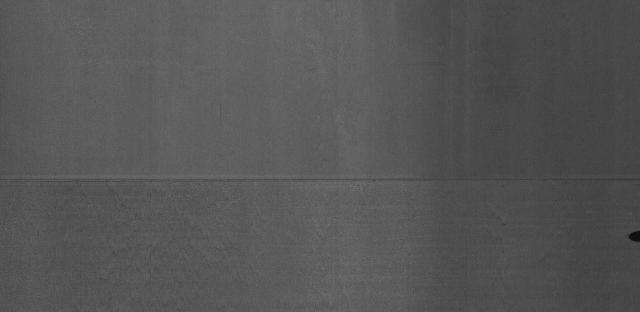punching_hole: (626, 226, 639, 244)
silk_spot: (85, 202, 260, 299)
welding_line: (3, 172, 639, 190)
